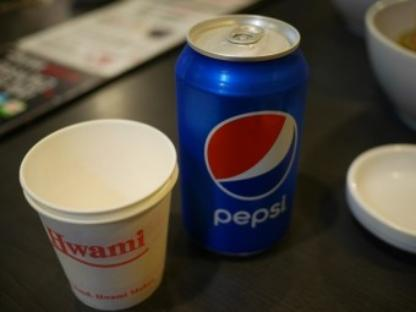Can: (177, 15, 309, 257)
